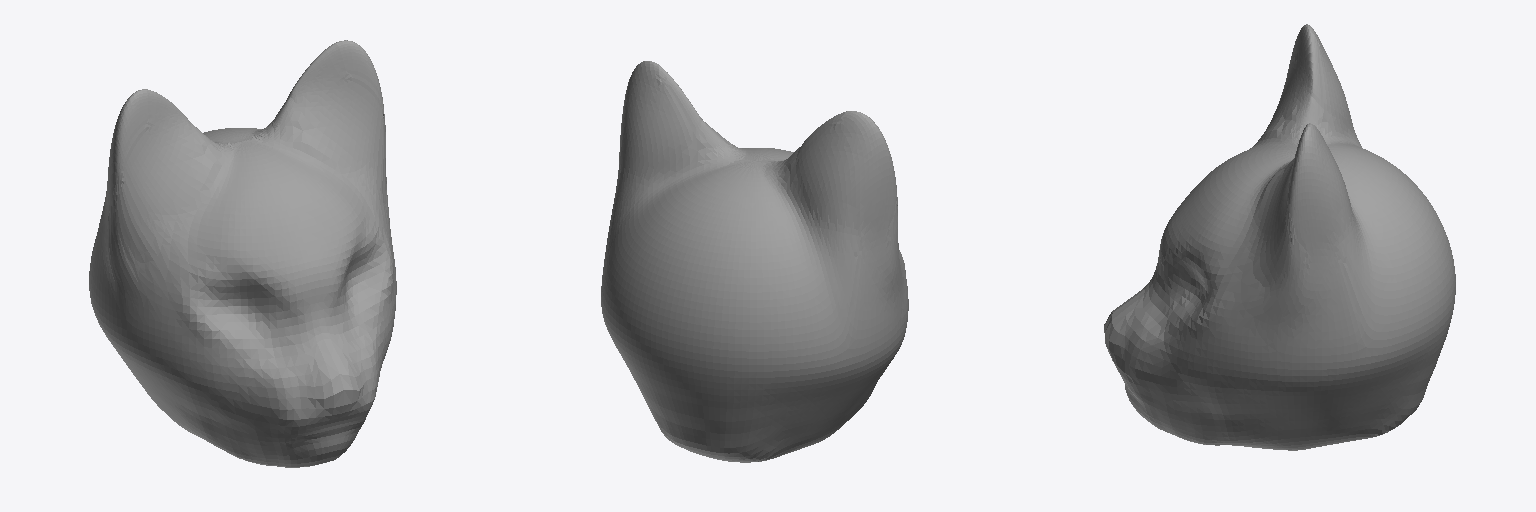
File: Samira.obj
3 renders of one model, left to right at view 1: azimuth 30°, elevation 25°; view 2: azimuth 150°, elevation 25°; view 3: azimuth 270°, elevation 25°, orthographic.
Parts seen in each view (by area): view 1: Samira_Sphere.001; view 2: Samira_Sphere.001; view 3: Samira_Sphere.001.
Boxes of the visible parts, x1,y1,x2,y2 form: Samira_Sphere.001: [89, 40, 396, 467]; Samira_Sphere.001: [601, 61, 908, 462]; Samira_Sphere.001: [1104, 24, 1455, 450].
Size of the model in its own units: 0.484 by 0.6131 by 0.5434.